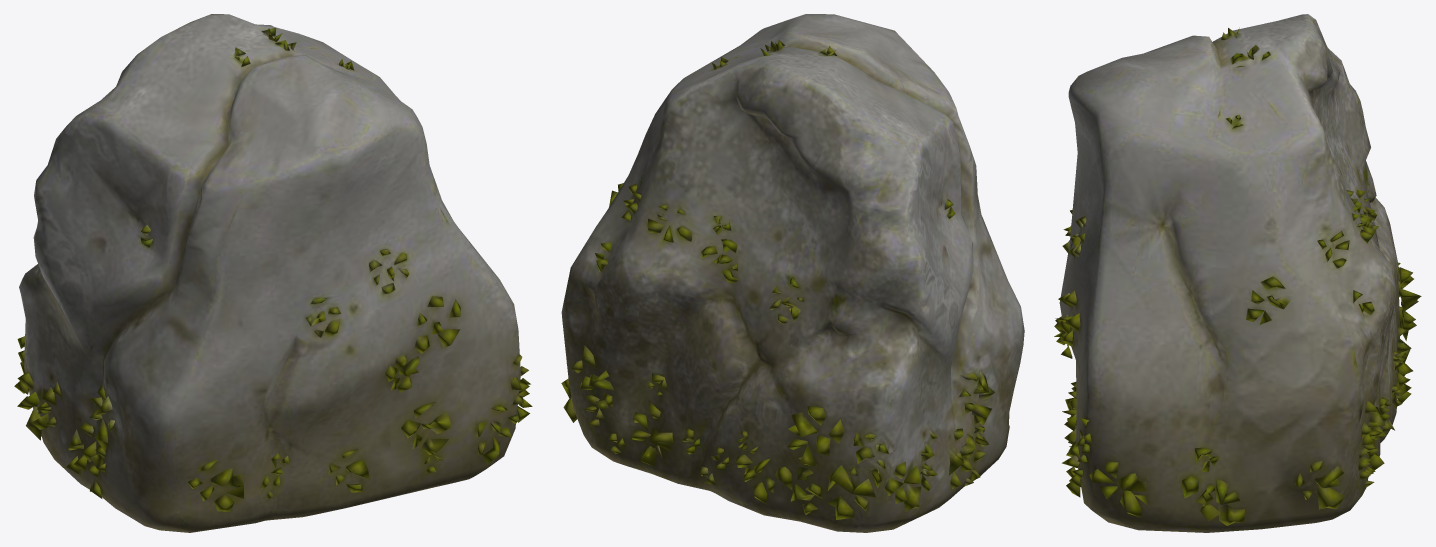
The model's file is mossy_boulder.glb.
3 renders of one model, left to right at view 1: azimuth 30°, elevation 25°; view 2: azimuth 150°, elevation 25°; view 3: azimuth 270°, elevation 25°, orthographic. The views are drawn at different scales.
Size of the model in its own units: 0.9609 by 1 by 0.8004.
1 material, 1 textured.
